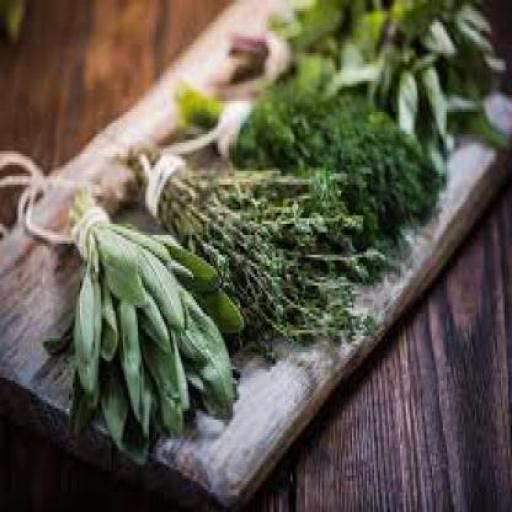biodegradable: (40, 182, 244, 464), (128, 140, 386, 347), (173, 73, 440, 246), (267, 0, 510, 145), (225, 26, 479, 160), (0, 0, 23, 45)
